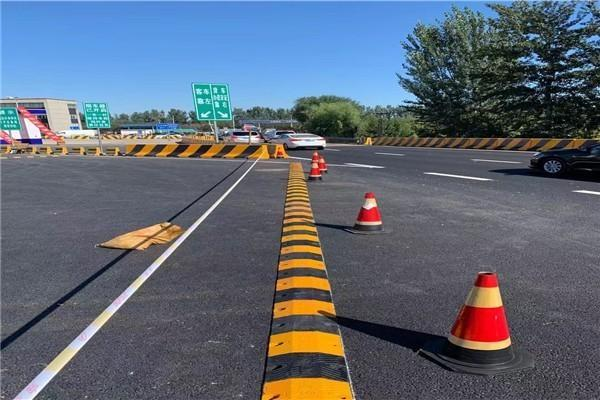cone_barrel: (441, 267, 520, 367), (347, 189, 385, 231), (306, 160, 320, 180), (317, 155, 327, 172), (309, 149, 319, 162)
